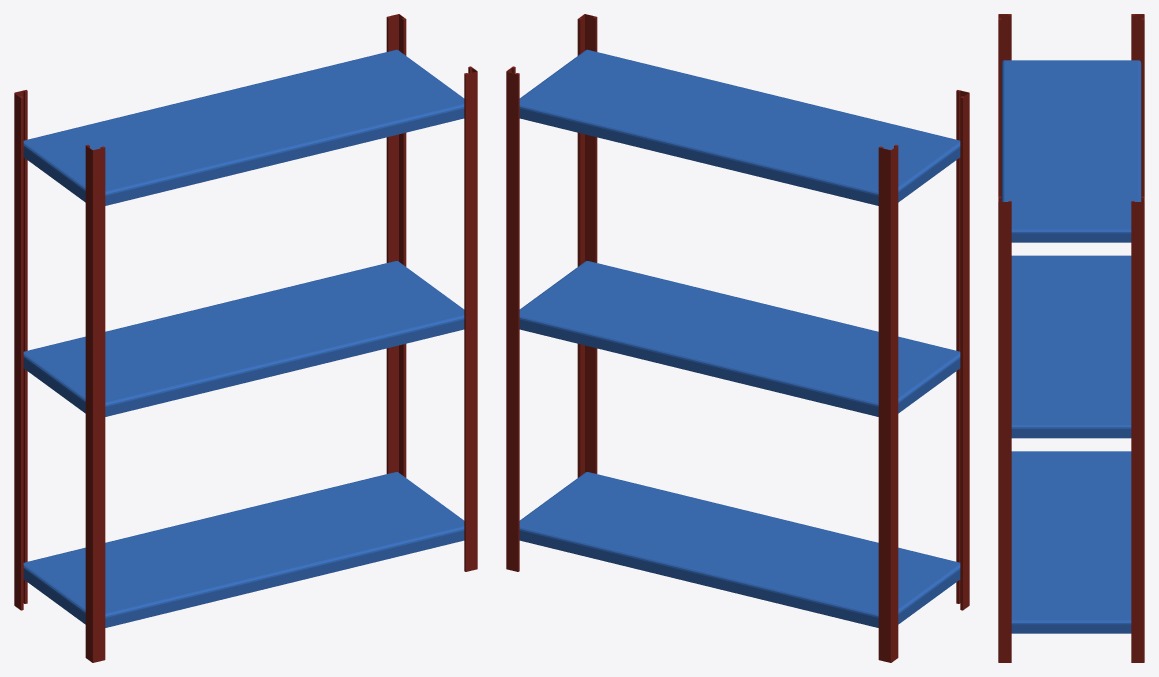
File: Shelf.glb
3 views of the same model, side by side, from view 1: azimuth 30°, elevation 25°; view 2: azimuth 150°, elevation 25°; view 3: azimuth 270°, elevation 25° (orthographic). The views are drawn at different scales.
Visible parts, largest first — view 1: E3, E2, E1, Bar-, Bar+; view 2: E3, E2, E1, Bar-, Bar+; view 3: E3, E2, E1, Bar+, Bar-.
Part boxes in pixels (box(x1,y1,x2,y2)): E3: box(23, 49, 464, 205); E2: box(23, 261, 464, 416); E1: box(23, 472, 464, 627); Bar-: box(14, 90, 105, 662); Bar+: box(386, 14, 477, 571); E3: box(519, 49, 960, 205); E2: box(519, 261, 960, 416); E1: box(519, 472, 960, 627); Bar-: box(878, 90, 969, 662); Bar+: box(506, 14, 597, 571); E3: box(1001, 60, 1141, 242); E2: box(1011, 255, 1131, 438); E1: box(1011, 451, 1131, 633); Bar+: box(998, 196, 1144, 662); Bar-: box(998, 14, 1144, 201).
Bounding box in the file's own units: 2.67 × 3.4 × 0.9491.
